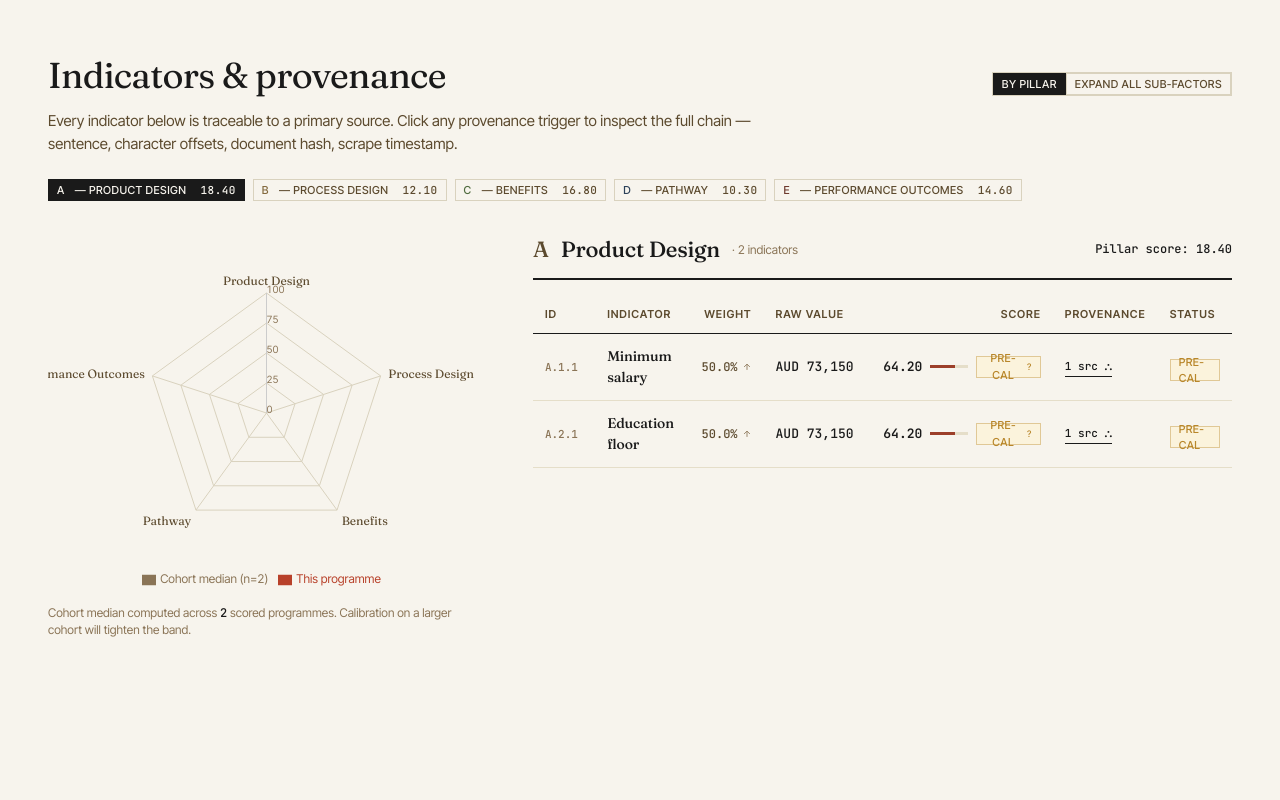
PillarBreakdown — tabs vs expand-all (Q5) › switches indicator table when a different pillar tab is clicked
Click the tab with test id "pillar-tab-D".
click(690, 190)  # box [614, 179, 766, 201]
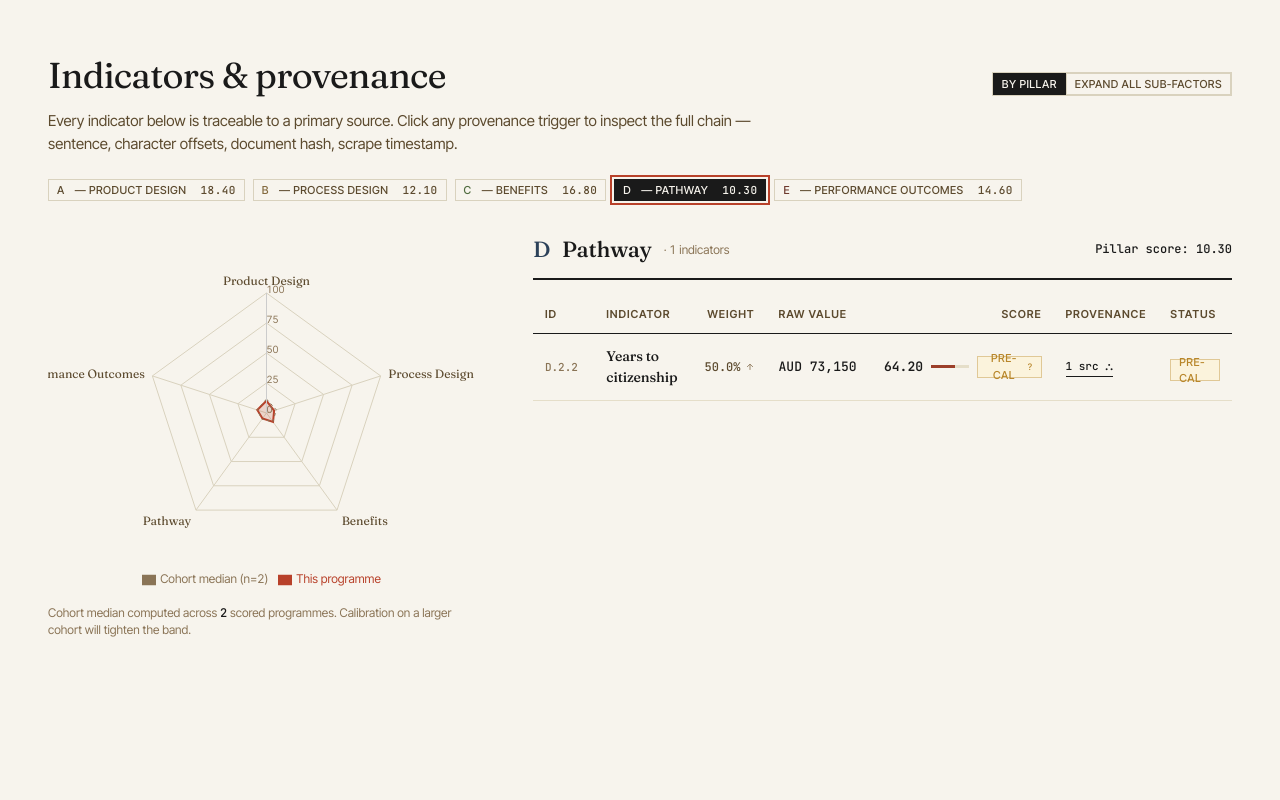
Check: the table with test id "pillar-indicator-table" shows "D.2.2", box [545, 360, 578, 374]
Check: the table with test id "pillar-indicator-table" no longer shows "A.1.1", box [533, 296, 1232, 400]
